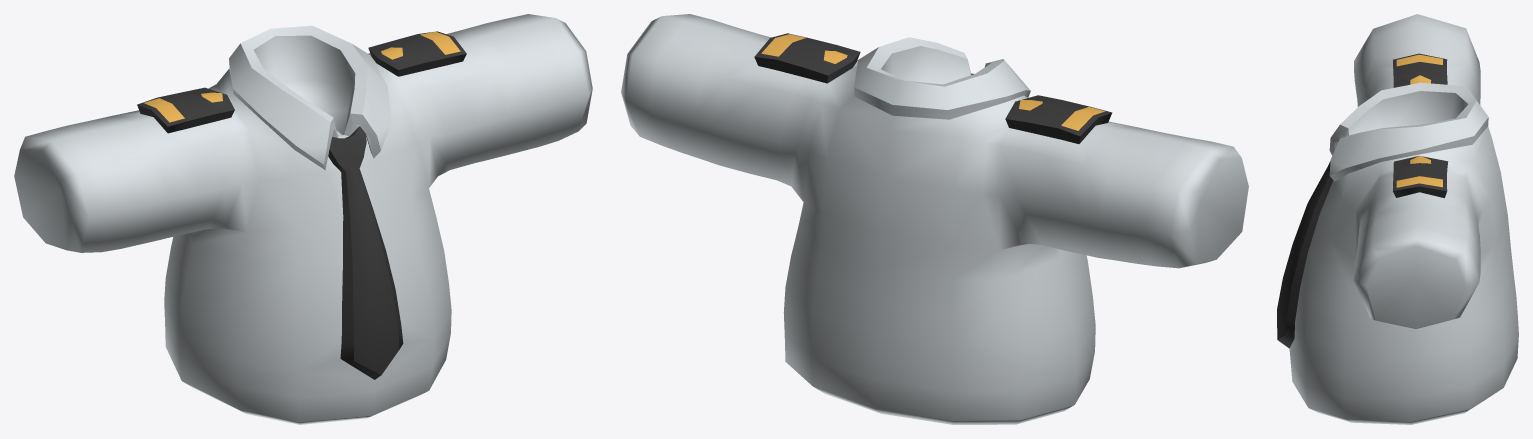
File: Top_48.fbx
The picture shows the model from 3 angles, left to right: view 1: azimuth 30°, elevation 25°; view 2: azimuth 150°, elevation 25°; view 3: azimuth 270°, elevation 25°; orthographic projection. The views are drawn at different scales.
Visible parts, largest first — view 1: Top_48; view 2: Top_48; view 3: Top_48.
Part boxes in pixels (bbox=[...]): Top_48: bbox=[14, 14, 592, 424]; Top_48: bbox=[621, 14, 1248, 424]; Top_48: bbox=[1277, 14, 1518, 424].
Bounding box in the file's own units: 84.92 × 49.35 × 37.65.
